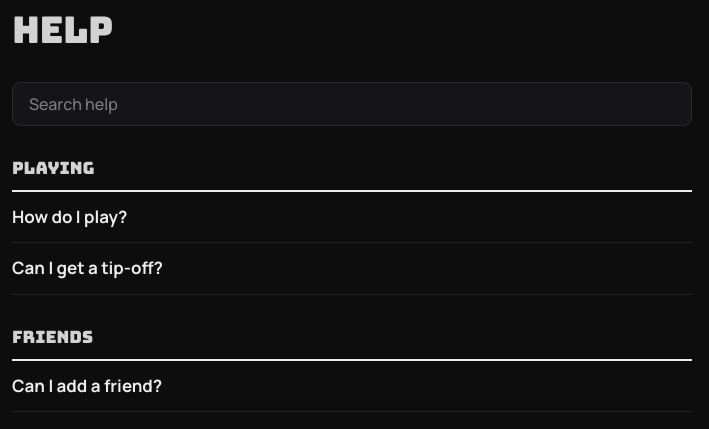
Test: help centre › a search with no match says so
The width and height of the screenshot is (709, 429).
In the search field labelled "Search help": (352, 104) [12,82,692,126], type "zzzz"
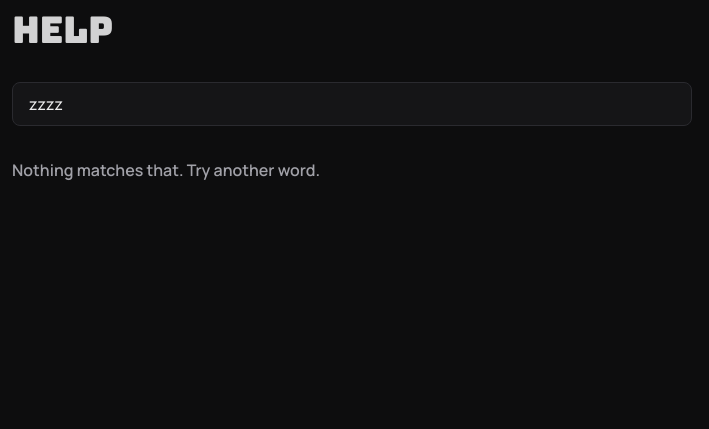
Check: the text "Nothing matches that. Try another word." is shown, box [12,159,320,181]
Check: no links are shown
